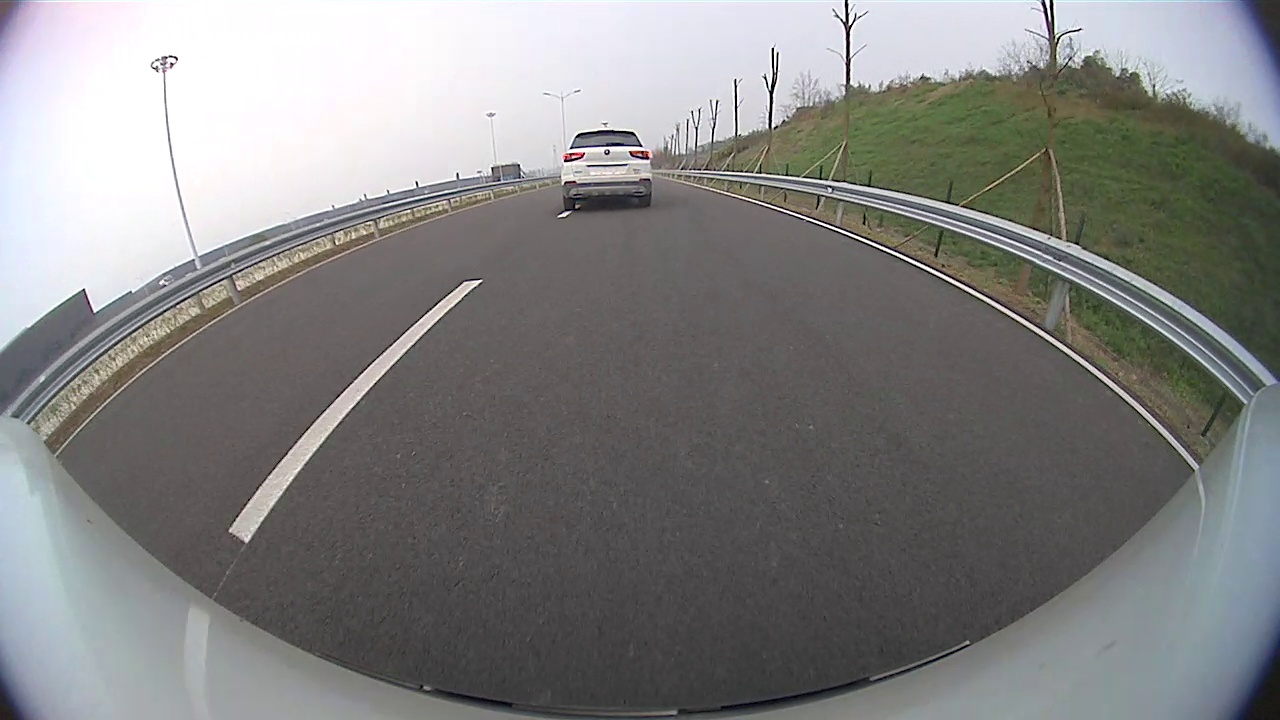car: (561, 130, 652, 210)
